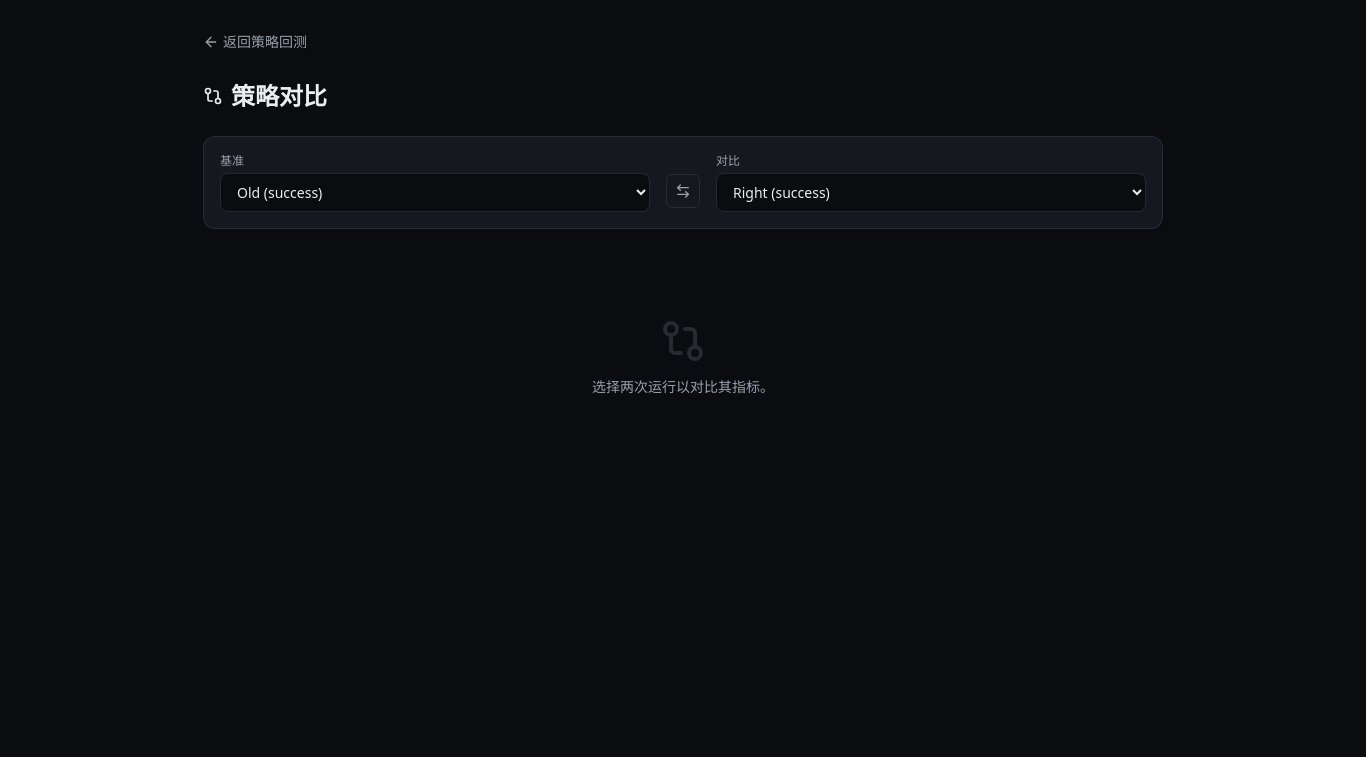
it: Compare page › keeps the newest result when an older request resolves later
The image size is (1366, 757).
Select "New (success)" in the dropdown named "Old" at (435, 192), box [220,173,650,212]
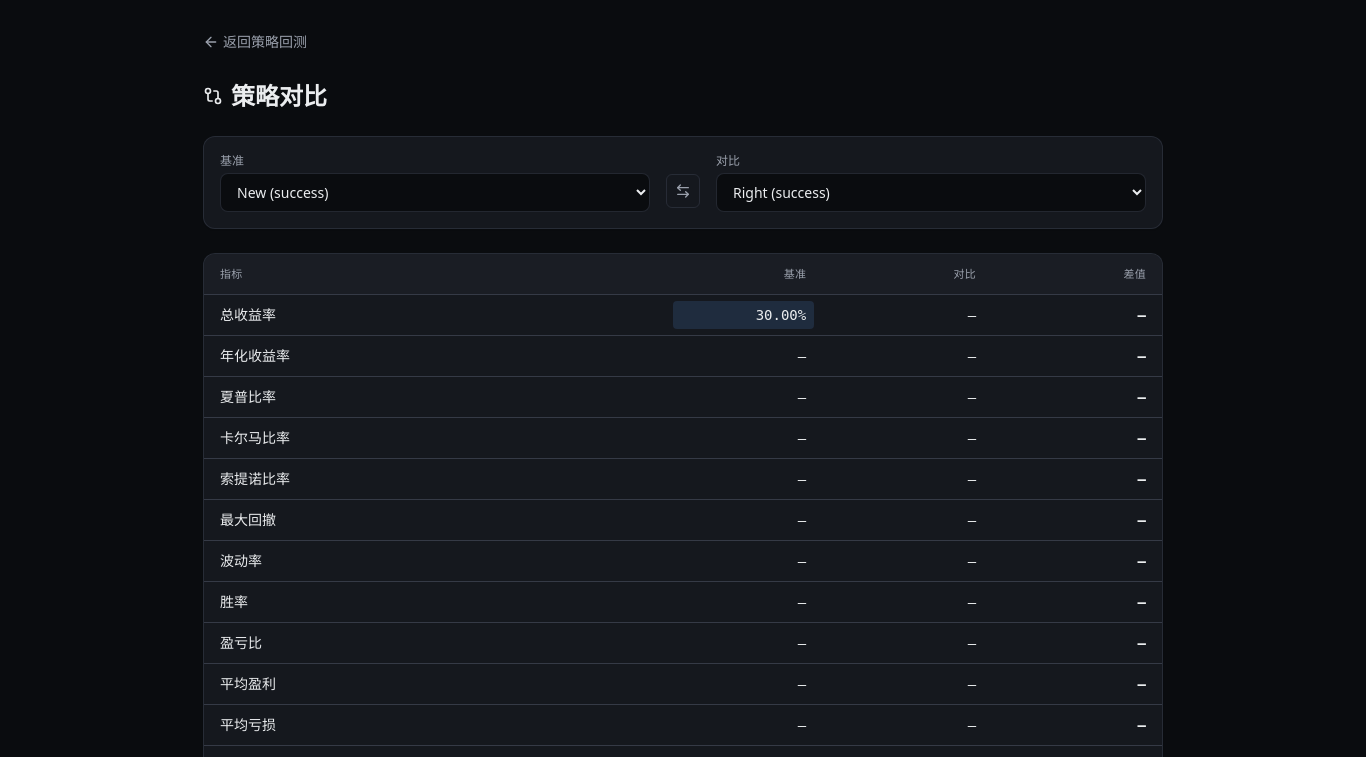
Check: the text "30.00%" is shown, box [756,307,806,323]
